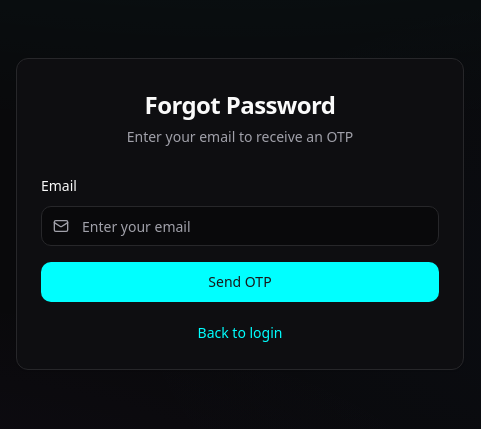
Test: ForgotPassword › shows the API error and keeps the entered password when reset fails
This screenshot has width=481, height=429.
Type "buyer@example.com" into the field labelled "Email" at [240, 226], box [41,206,439,246]
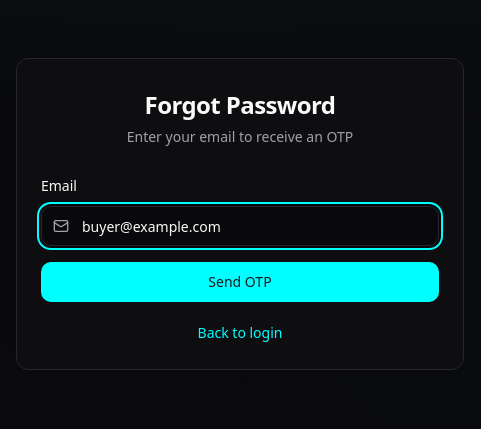
Click the button "Send OTP" at [240, 282], box [41,262,439,302]
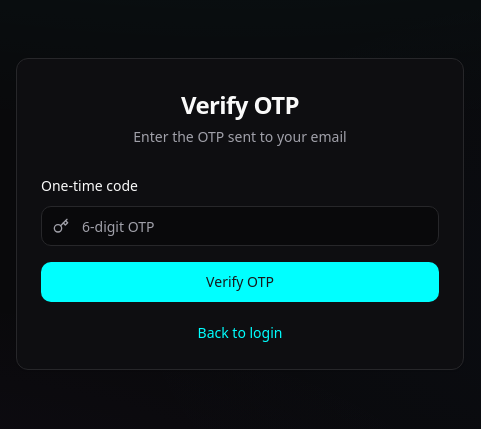
Type "123456" into the field labelled "One-time code" at [240, 226], box [41,206,439,246]
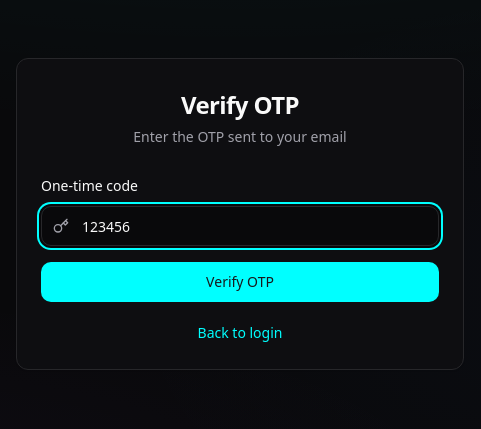
Click the button "Verify OTP" at [240, 282], box [41,262,439,302]
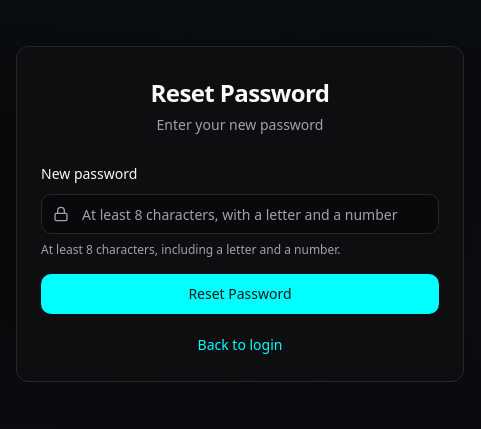
Type "SecurePass1" into the password field labelled "New password" at [240, 214], box [41,194,439,234]
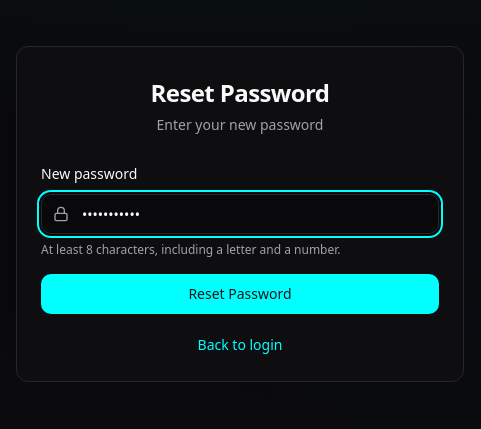
Click the button "Reset Password" at [240, 294], box [41,274,439,314]
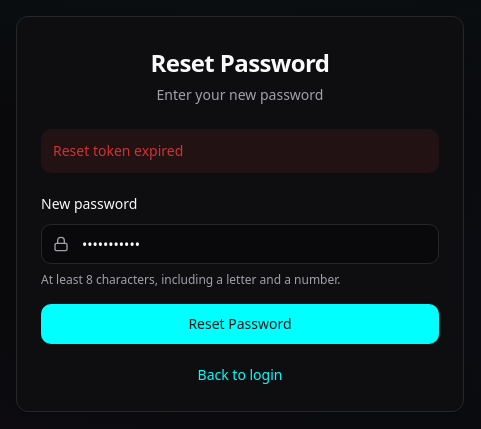
expect the button "Reset Password" is shown: met, box [41,304,439,344]
expect the message reads "Reset token expired": met, box [53,141,183,160]
